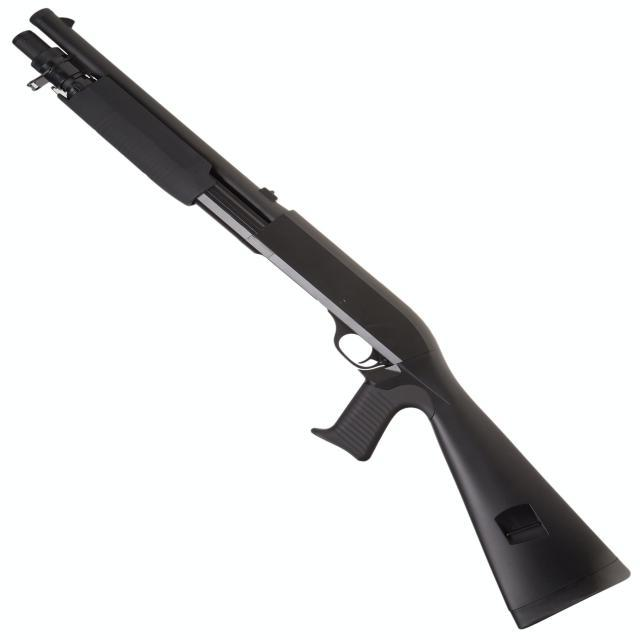shotgun: (2, 3, 640, 640)
